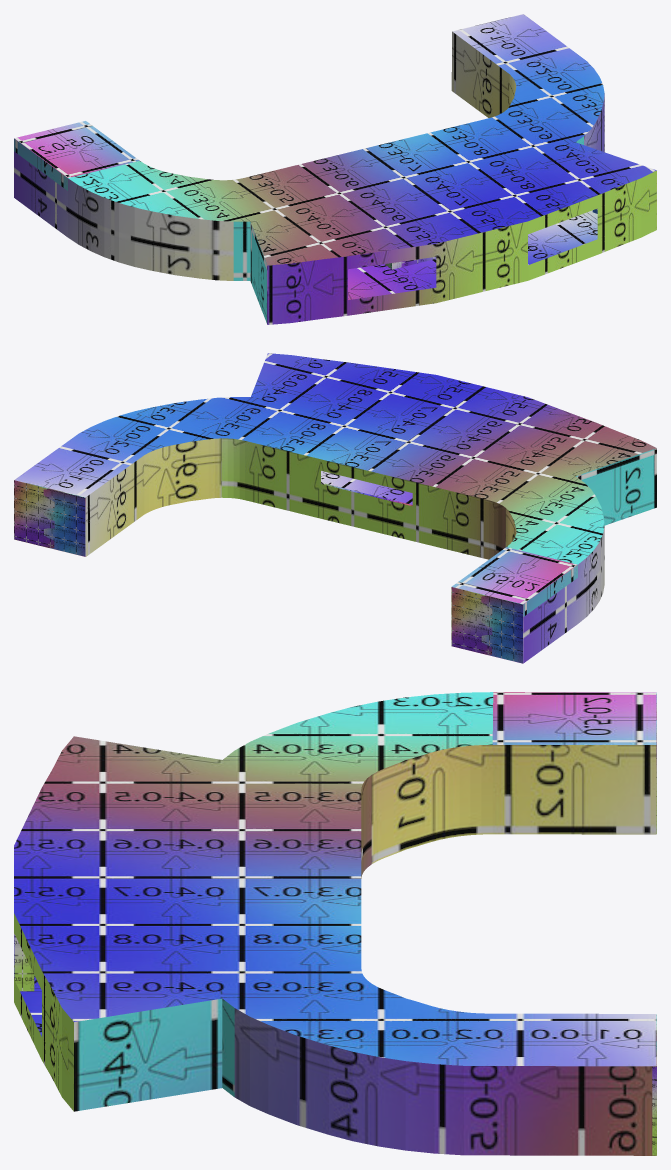
The model's file is hallwayuv2.obj.
3 views of the same model, one above another, from view 1: azimuth 30°, elevation 25°; view 2: azimuth 150°, elevation 25°; view 3: azimuth 270°, elevation 25° (orthographic). The views are drawn at different scales.
Parts seen in each view (by area): view 1: polySurface12; view 2: polySurface12, polySurface20, polySurface18; view 3: polySurface12, pCube137.
Boxes of the visible parts, x1,y1,x2,y2 form: polySurface12: [14, 14, 656, 324]; polySurface12: [14, 353, 656, 663]; polySurface20: [451, 587, 523, 663]; polySurface18: [14, 480, 85, 556]; polySurface12: [14, 692, 656, 1155]; pCube137: [14, 934, 34, 991].
Size of the model in its own units: 108 by 12.07 by 78.6.
19 materials, 19 textured.
